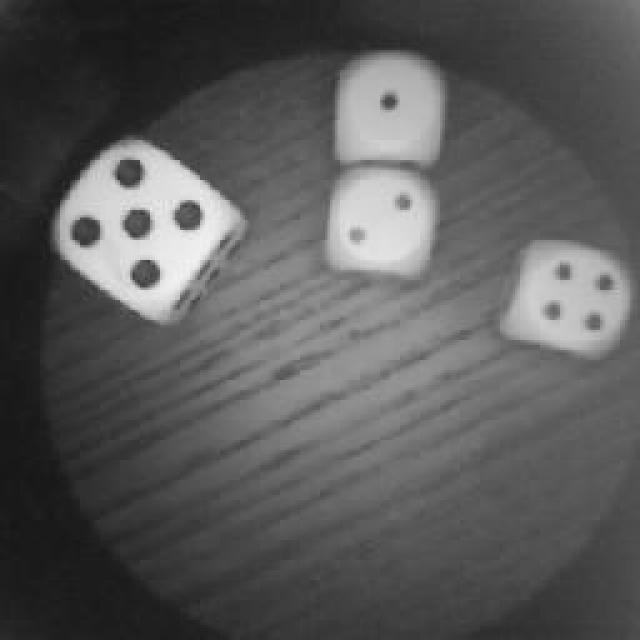dice_1: (332, 48, 448, 172)
dice_2: (322, 158, 442, 278)
dice_4: (502, 232, 638, 372)
dice_5: (48, 132, 248, 320)
